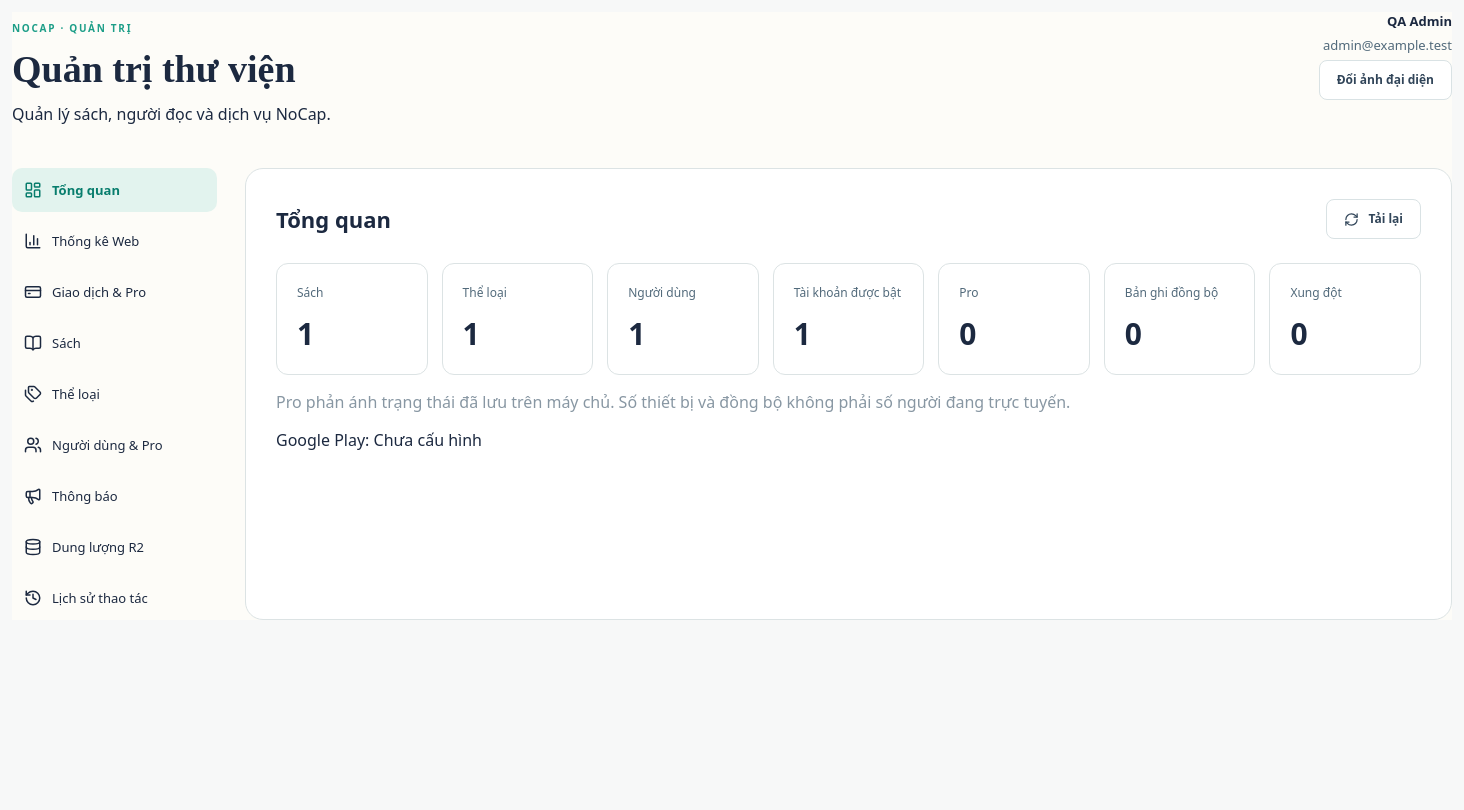
administrator workspace › updates an announcement at its scheduled start and after its inclusive end without reloading
Click the button "Thông báo" at (114, 496), box left=12, top=474, right=217, bottom=518
Wait 2001 ms
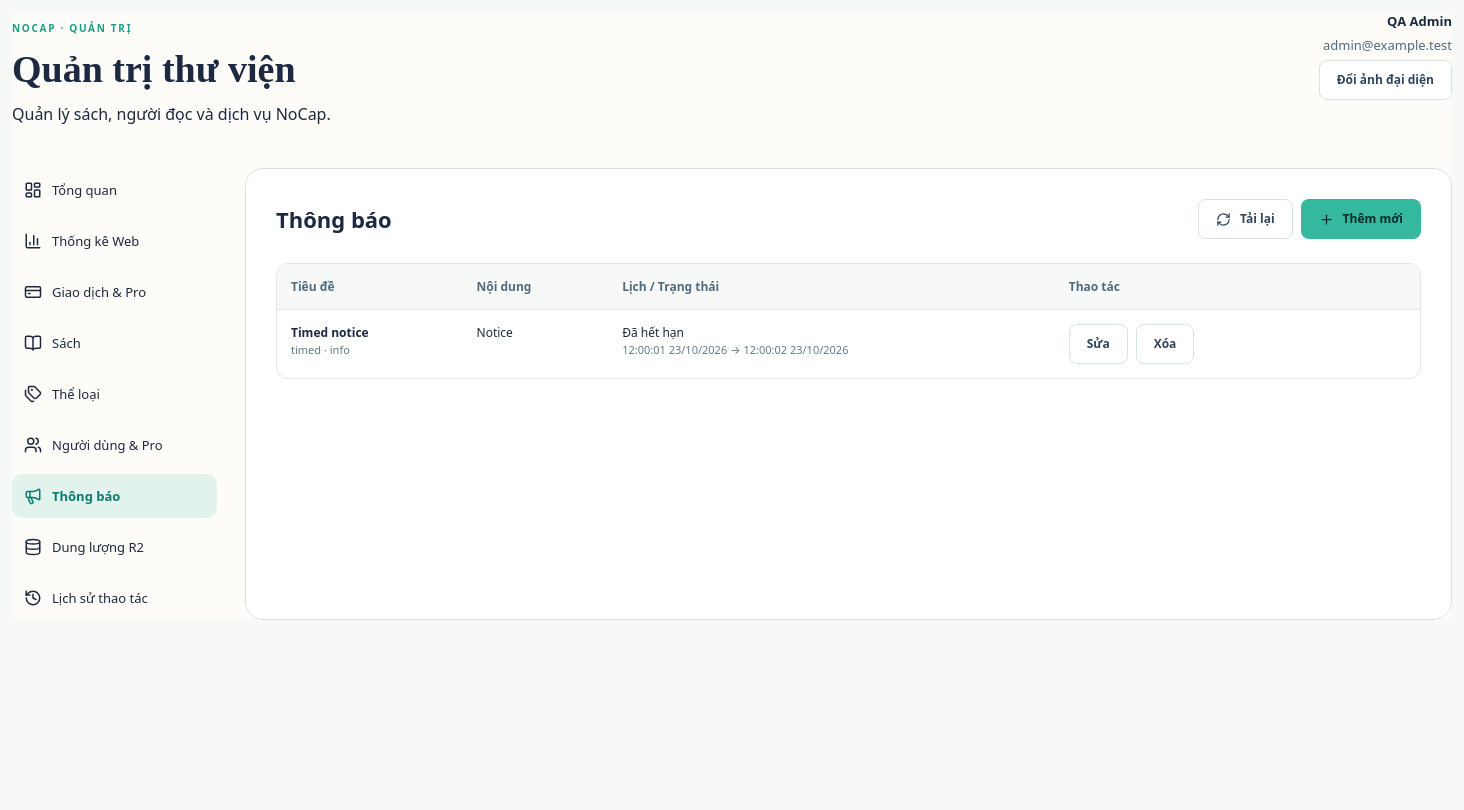
Expected: the text "Đang hiển thị" is shown, left=608, top=310, right=1055, bottom=378
Expected: the text "Đã hết hạn" is shown, left=622, top=324, right=684, bottom=341
